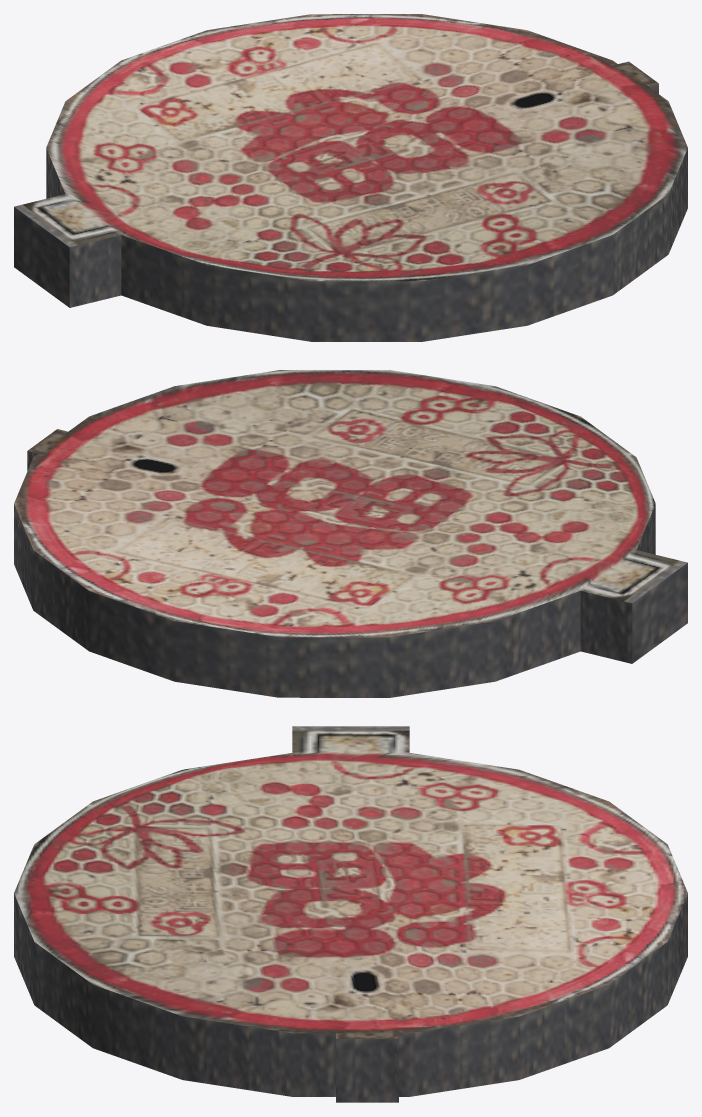
File: jinggai_qita.gltf
3 renders of one model, top to bottom at view 1: azimuth 30°, elevation 25°; view 2: azimuth 150°, elevation 25°; view 3: azimuth 270°, elevation 25°, orthographic. The views are drawn at different scales.
Parts seen in each view (by area): view 1: jinggai04; view 2: jinggai04; view 3: jinggai04.
Boxes of the visible parts, box(x1,y1,x2,y2) form: jinggai04: box(14, 14, 687, 341); jinggai04: box(14, 370, 687, 697); jinggai04: box(14, 726, 687, 1102).
Bounding box in the file's own units: 0.5267 × 0.05 × 0.48.
Materials: 1 (1 with a texture image).
